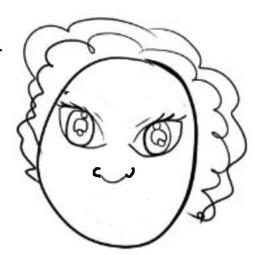eye: (126, 111, 189, 162), (57, 101, 110, 152)
nose: (87, 162, 139, 189)
